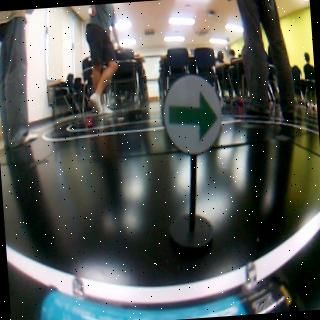right: (161, 72, 223, 154)
